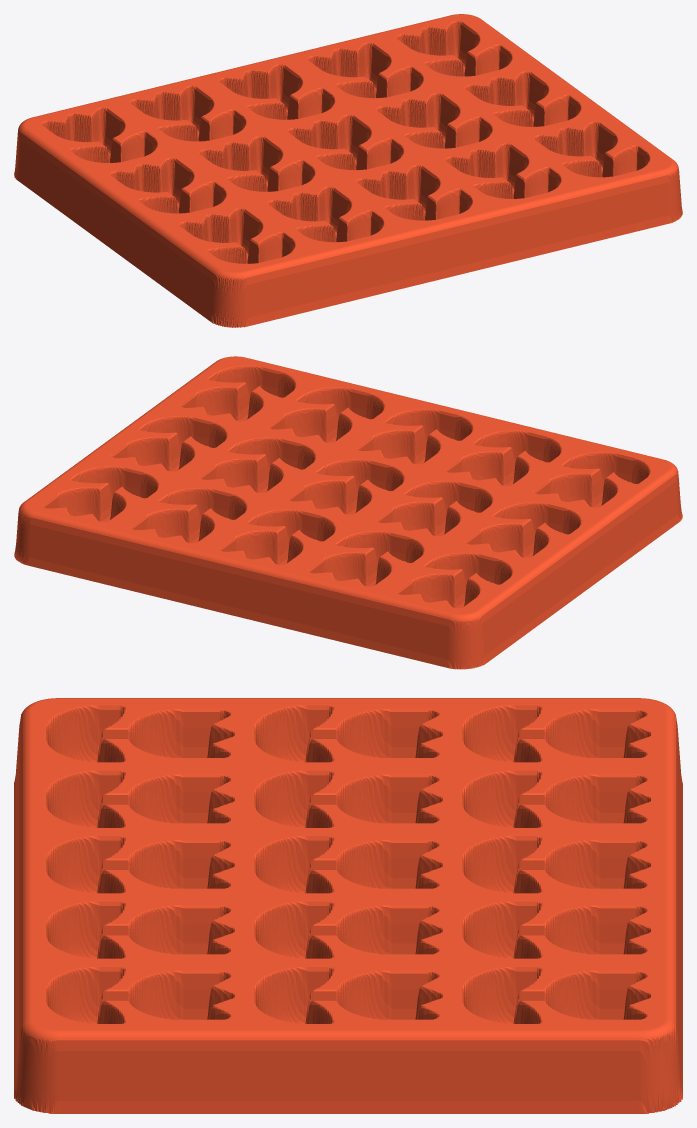
File: mold.glb
3 renders of one model, top to bottom at view 1: azimuth 30°, elevation 25°; view 2: azimuth 150°, elevation 25°; view 3: azimuth 270°, elevation 25°, orthographic. The views are drawn at different scales.
Parts seen in each view (by area): view 1: geometry_0; view 2: geometry_0; view 3: geometry_0.
Boxes of the visible parts, x1,y1,x2,y2 form: geometry_0: (14, 14, 682, 327); geometry_0: (14, 356, 682, 669); geometry_0: (14, 698, 682, 1113).
Size of the model in its own units: 0.1703 by 0.0175 by 0.1392.
